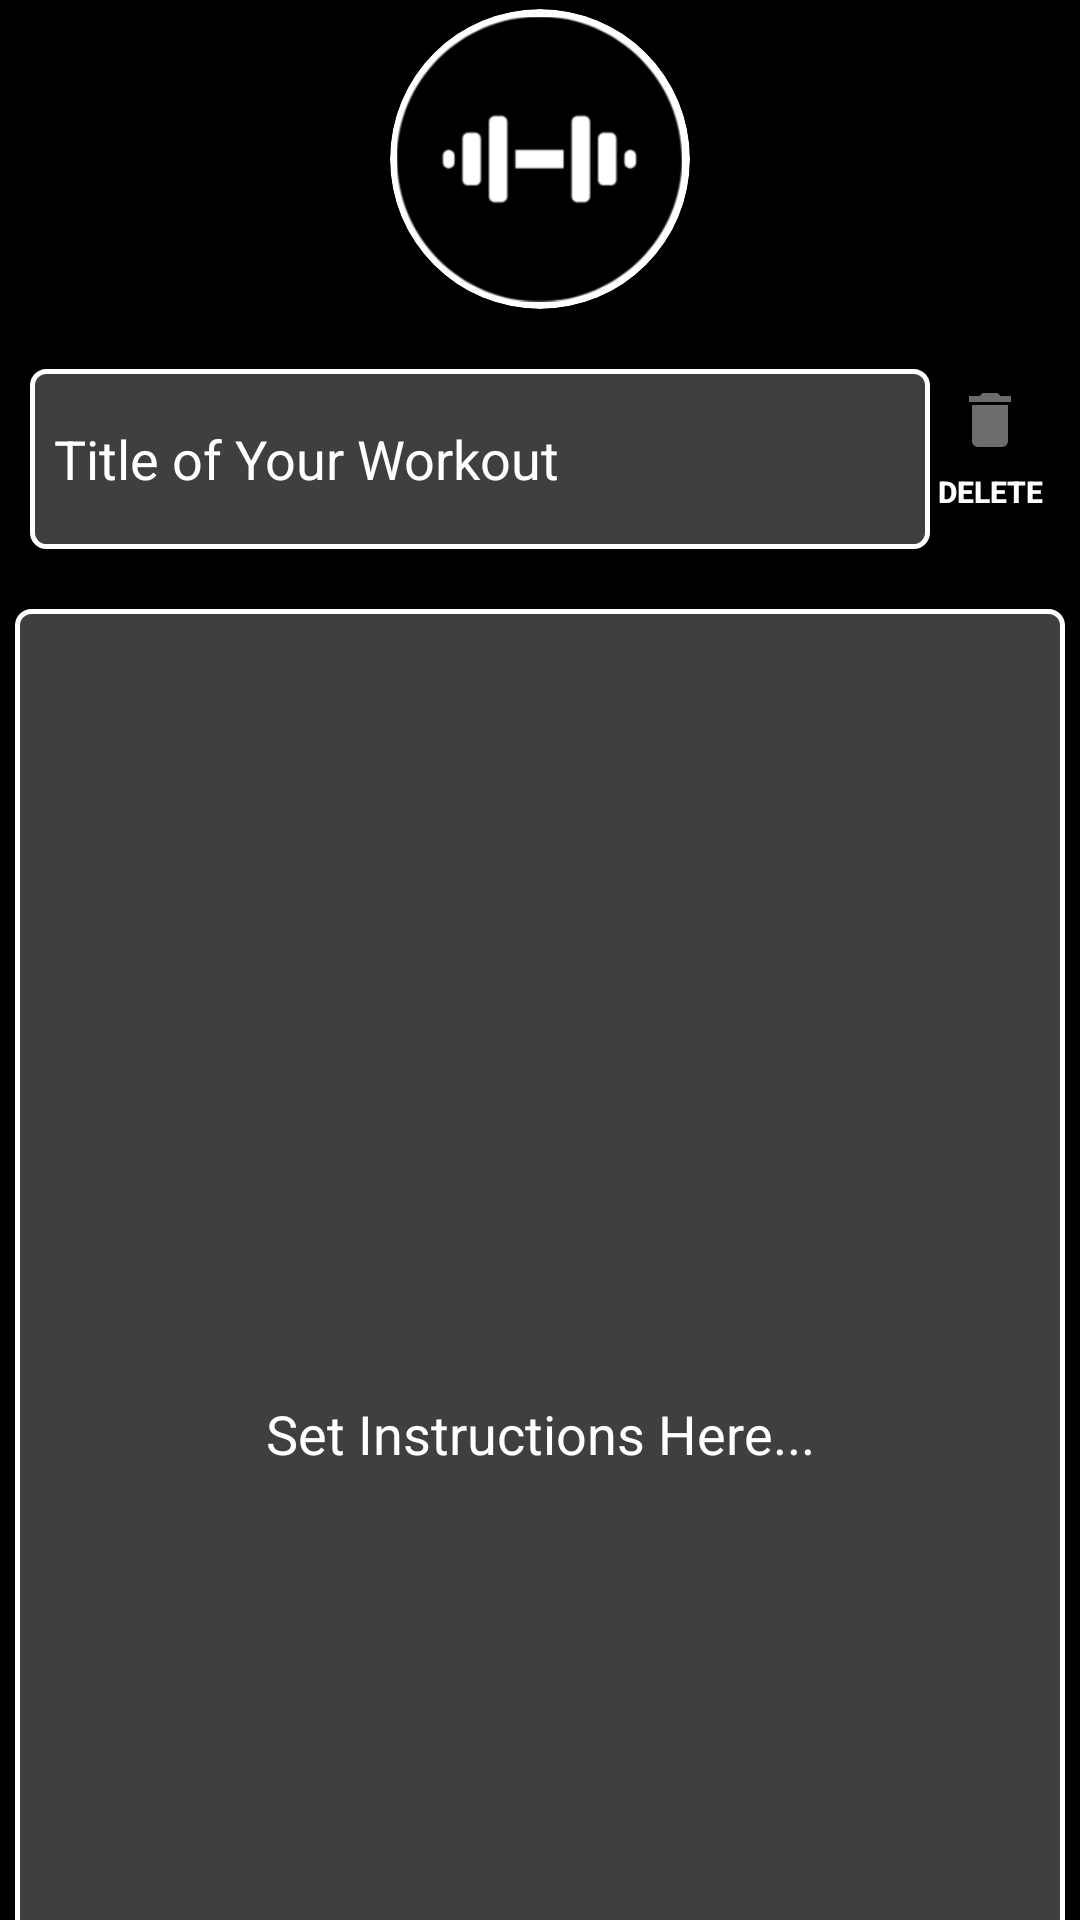

Locate icon controls on the screen. Image size 1080*1920, boxes as (x1, y1, x2, y2).
trainerprofileicon: (442, 115, 637, 203)
